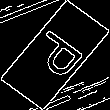P_SE: (21, 25, 89, 85)
